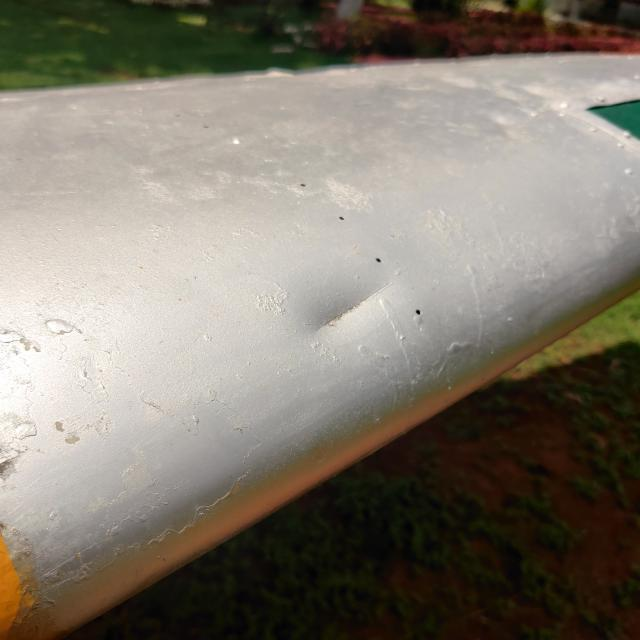dent: (277, 247, 410, 366)
